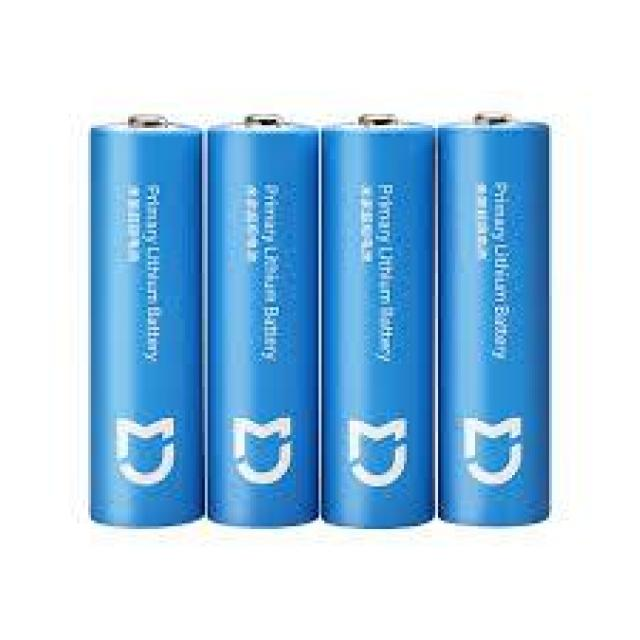AA: (202, 111, 319, 526), (319, 111, 435, 526), (435, 108, 549, 526), (88, 111, 202, 526)
